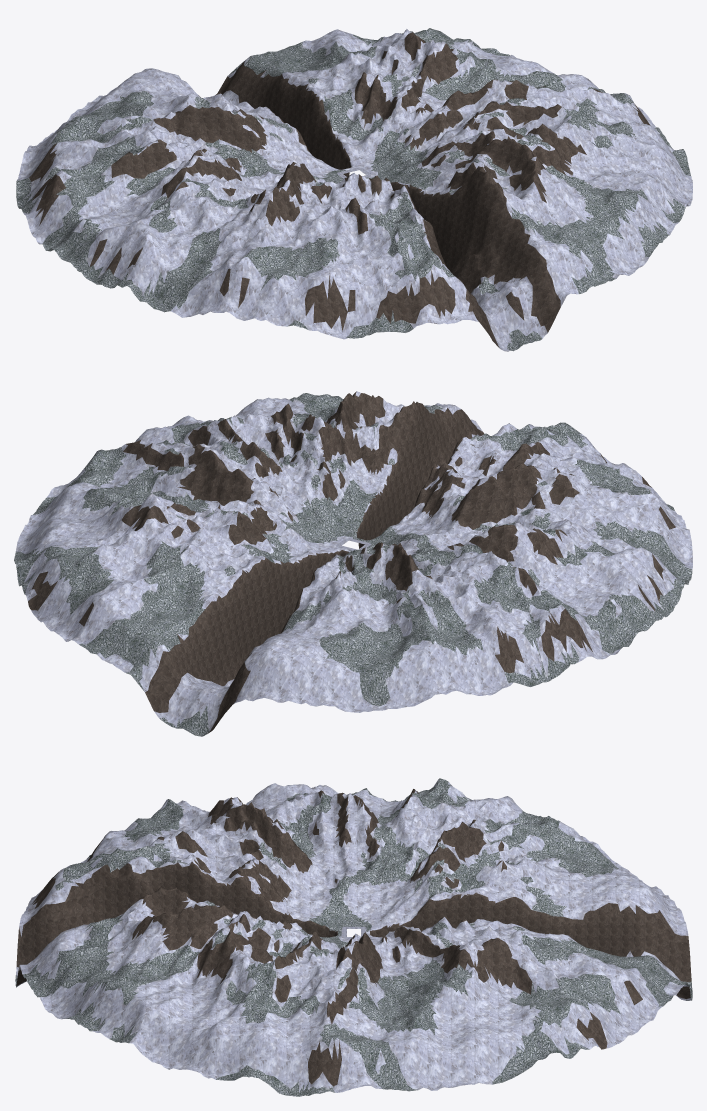
The model's file is backdrop_near_rect_s22x18_winter.glb.
3 views of the same model, one above another, from view 1: azimuth 30°, elevation 25°; view 2: azimuth 150°, elevation 25°; view 3: azimuth 270°, elevation 25° (orthographic).
Visible parts, largest first — view 1: near_land_S, near_land_W, near_land_E, near_land_N; view 2: near_land_N, near_land_W, near_land_E, near_land_S; view 3: near_land_E, near_land_S, near_land_N, near_land_W.
Boxes of the visible parts, x1=… form: near_land_S: x1=266, y1=127, x2=681, y2=351; near_land_W: x1=16, y1=105, x2=343, y2=320; near_land_E: x1=358, y1=29, x2=692, y2=219; near_land_N: x1=28, y1=28, x2=434, y2=176; near_land_N: x1=26, y1=511, x2=444, y2=736; near_land_W: x1=367, y1=463, x2=692, y2=695; near_land_E: x1=14, y1=397, x2=352, y2=594; near_land_S: x1=273, y1=391, x2=676, y2=548; near_land_E: x1=116, y1=914, x2=593, y2=1096; near_land_S: x1=15, y1=818, x2=343, y2=1041; near_land_N: x1=366, y1=822, x2=692, y2=1049; near_land_W: x1=138, y1=778, x2=592, y2=928.
Bounding box in the file's own units: 577 × 168 × 577.
Materials: 4 (4 with a texture image).
